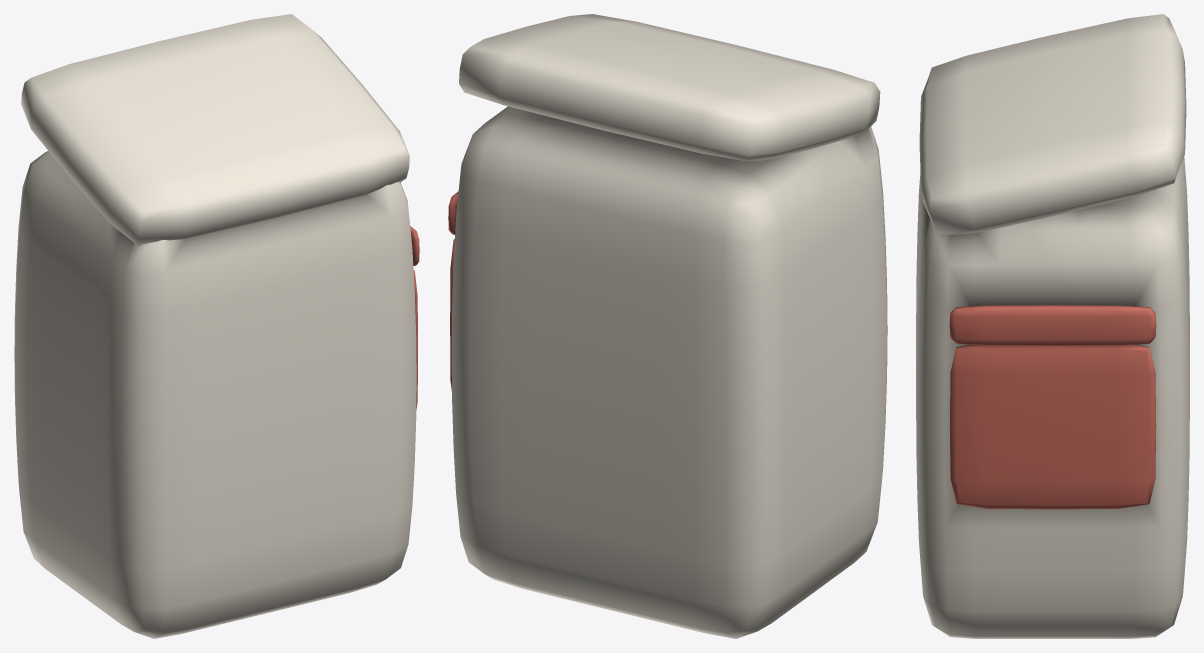
File: food_flour.glb
The picture shows the model from 3 angles, left to right: view 1: azimuth 30°, elevation 25°; view 2: azimuth 150°, elevation 25°; view 3: azimuth 270°, elevation 25°; orthographic projection. The views are drawn at different scales.
Visible parts, largest first — view 1: PART; view 2: PART; view 3: PART.
Boxes of the visible parts, <box> form: PART: <box>14,14,419,638</box>; PART: <box>448,14,887,638</box>; PART: <box>916,14,1189,638</box>.
Size of the model in its own units: 0.098 by 0.1518 by 0.074.
